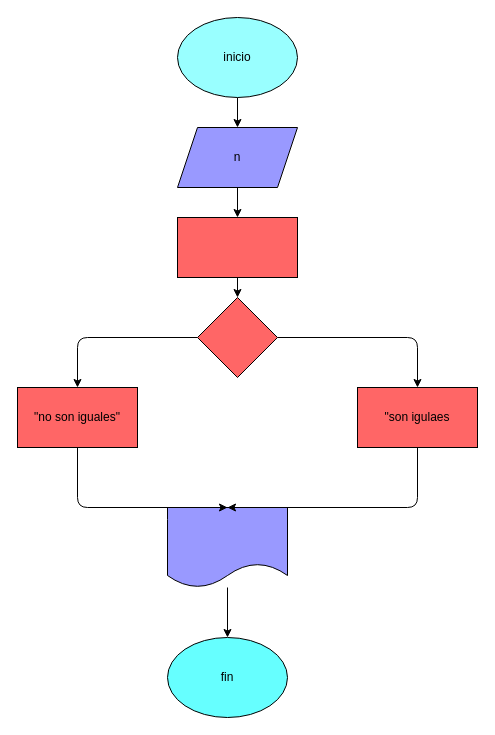
Image size: 495x735. Some labels were removed from this diagram. The shapes that lost their labels are listed below. From the top down, each one's box as (x1, y1, x2, y2) in pixels, then its label:
(176, 216, 298, 278): n1 =
(196, 296, 278, 378): n1 == n2
(166, 506, 288, 588): rta
